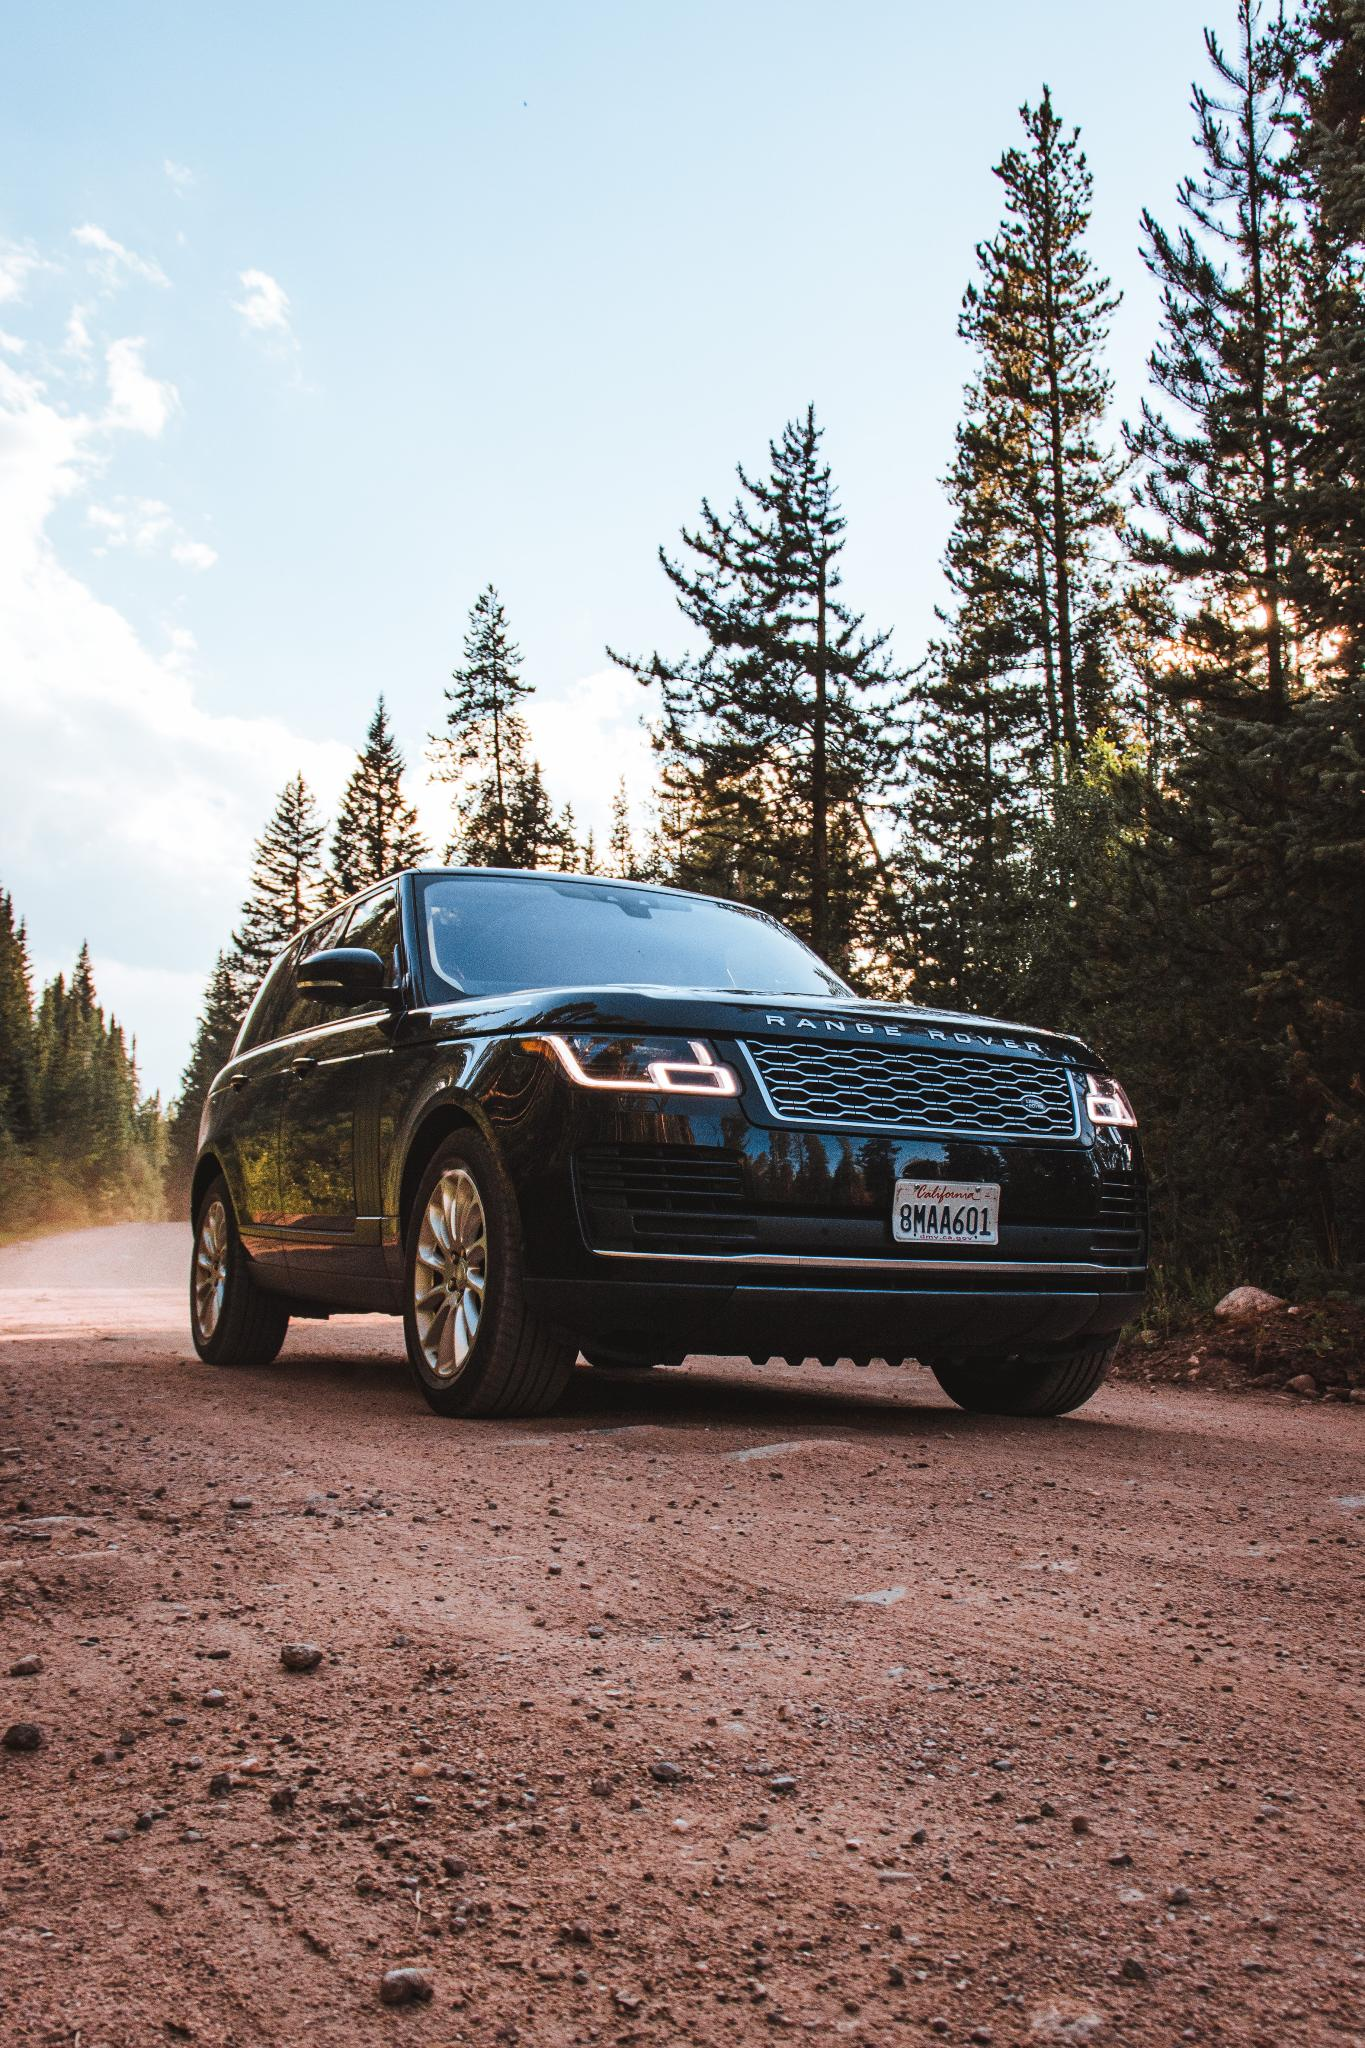range rover: (759, 997, 1053, 1069)
